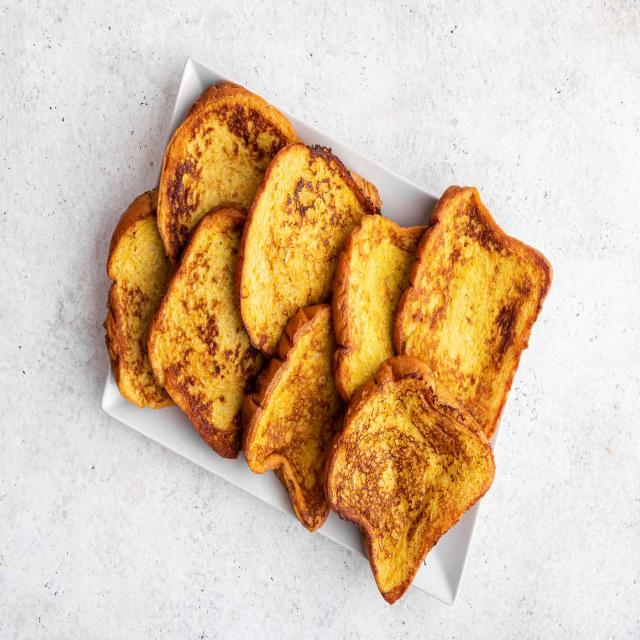Bread: (325, 354, 495, 604), (394, 186, 552, 438), (236, 142, 381, 356), (148, 206, 265, 458), (158, 81, 299, 264), (242, 304, 345, 531), (331, 214, 425, 401), (104, 189, 174, 408)
